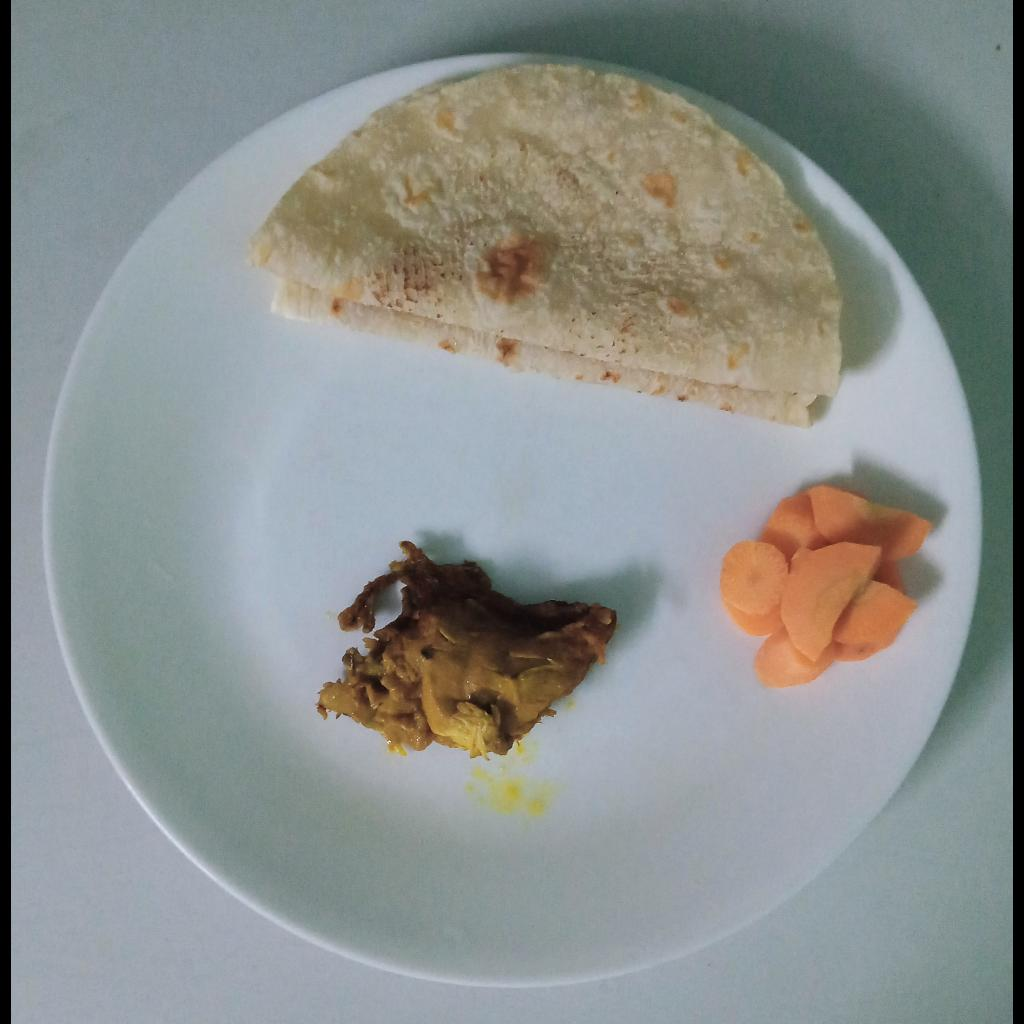carrot: (721, 485, 933, 690)
chicken: (312, 540, 620, 759)
ruti: (244, 63, 844, 427)
